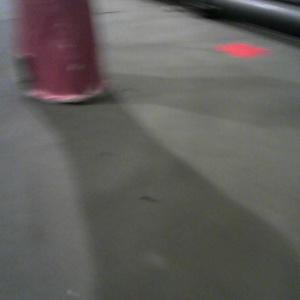middle: (11, 1, 106, 102)
